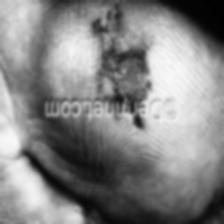Unclassified: (92, 22, 146, 123)
